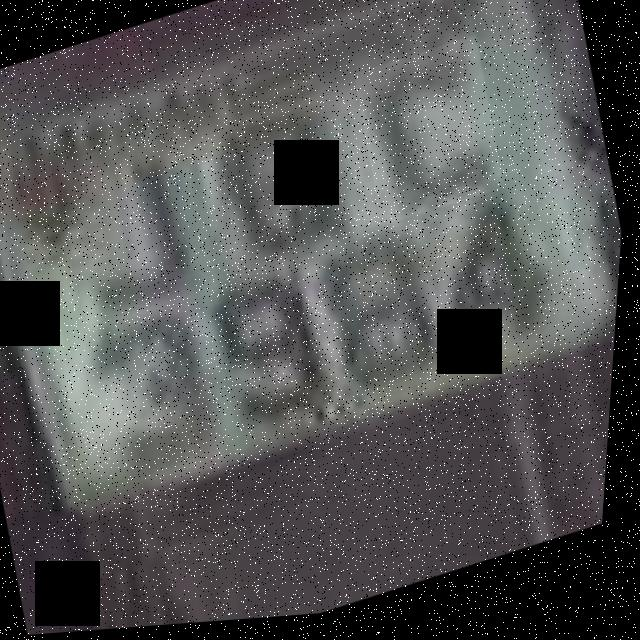3: (56, 270, 257, 503)
4: (412, 172, 577, 387)
6: (305, 213, 466, 416)
9: (185, 237, 349, 444)
C: (347, 40, 515, 234)
J: (49, 123, 231, 336)
